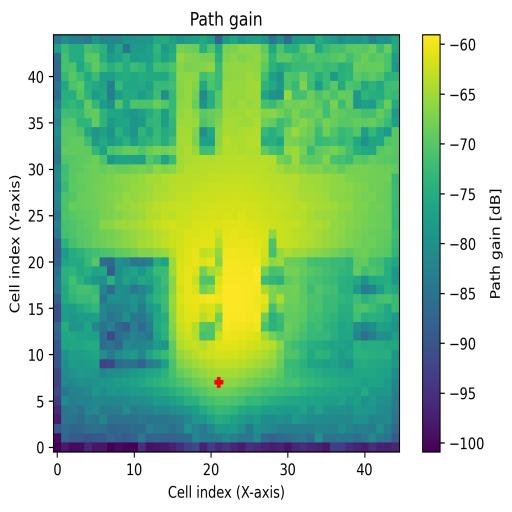Concrete: (278, 53, 354, 166)
Glass: (107, 47, 175, 166)
Metal: (284, 258, 354, 368)
Wood: (100, 258, 169, 368)
